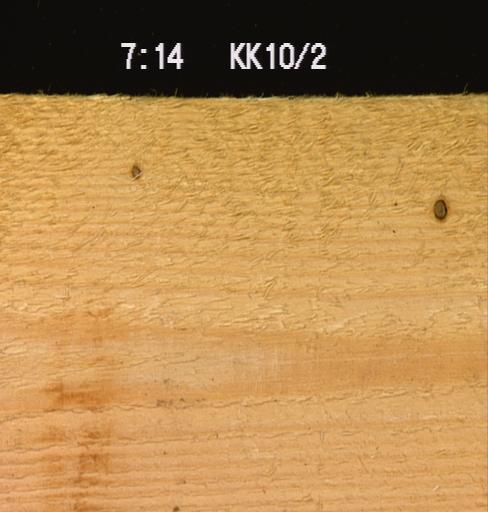dry_knot: (431, 196, 447, 221), (130, 162, 141, 179)
